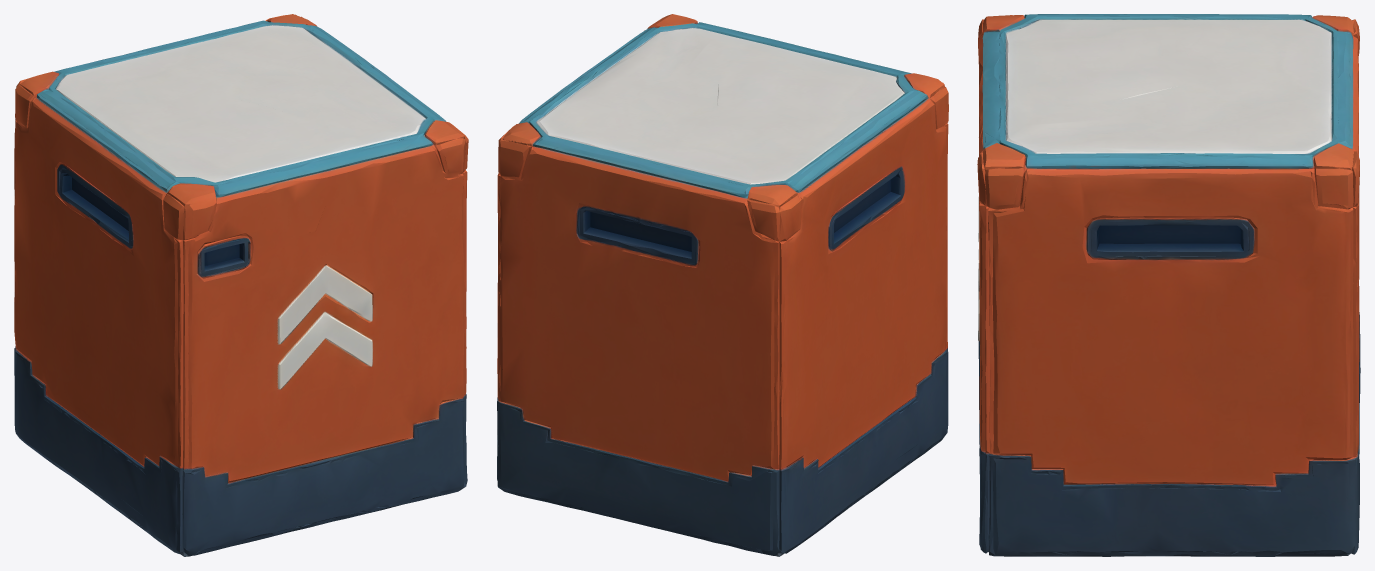
The model's file is gym-plyobox-web.glb.
3 views of the same model, side by side, from view 1: azimuth 30°, elevation 25°; view 2: azimuth 150°, elevation 25°; view 3: azimuth 270°, elevation 25° (orthographic). The views are drawn at different scales.
Visible parts, largest first — view 1: model; view 2: model; view 3: model.
Part boxes in pixels (x1,y1,x2,y2): model: (14,14,468,556); model: (497,14,948,556); model: (977,14,1360,556).
Bounding box in the file's own units: 1.61 × 1.9 × 1.65.
1 material, 1 textured.
